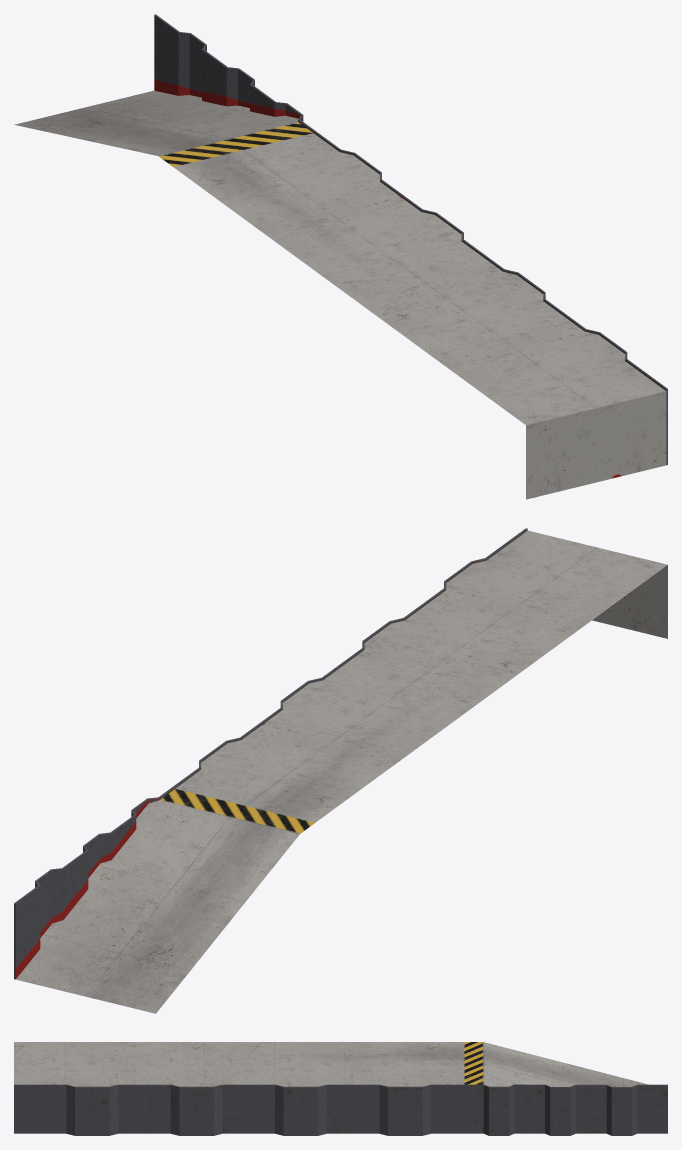
File: BaseRamp.dae
3 views of the same model, one above another, from view 1: azimuth 30°, elevation 25°; view 2: azimuth 150°, elevation 25°; view 3: azimuth 270°, elevation 25° (orthographic). The views are drawn at different scales.
Parts seen in each view (by area): view 1: BaseRamp; view 2: BaseRamp; view 3: BaseRamp.
Boxes of the visible parts, <box> form: BaseRamp: <box>14,14,667,499</box>; BaseRamp: <box>14,528,667,1013</box>; BaseRamp: <box>14,1042,667,1135</box>.
Bounding box in the file's own units: 8.4 × 50 × 4.11.
